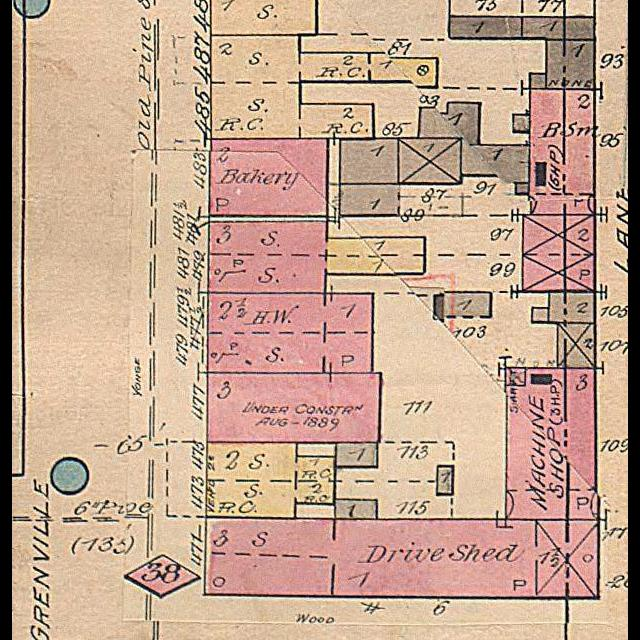building-footprints: (206, 517, 599, 598), (211, 35, 437, 139), (208, 221, 425, 293), (506, 368, 595, 520), (208, 293, 372, 372), (207, 373, 380, 442), (206, 442, 335, 519), (210, 139, 328, 216), (419, 102, 530, 176), (530, 89, 595, 215), (523, 215, 595, 292), (211, 0, 317, 34), (398, 138, 462, 184), (340, 139, 398, 184), (547, 39, 595, 89), (340, 184, 399, 216), (449, 16, 523, 39), (558, 323, 595, 368), (522, 17, 595, 39), (549, 292, 595, 323), (434, 292, 491, 317), (336, 443, 377, 467), (335, 499, 377, 518), (437, 466, 453, 494), (513, 115, 529, 132), (532, 308, 549, 323), (530, 74, 546, 89), (516, 183, 529, 194)
